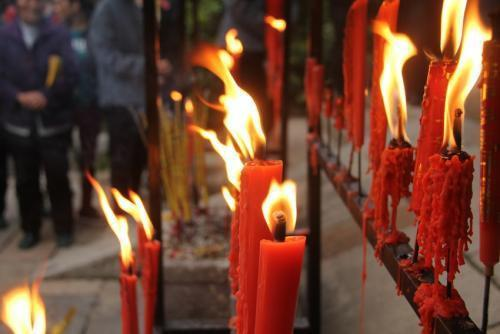fire: (195, 26, 268, 159), (84, 165, 168, 266), (367, 21, 417, 145), (437, 2, 475, 152), (196, 125, 240, 206), (3, 272, 52, 331), (258, 178, 301, 233)
